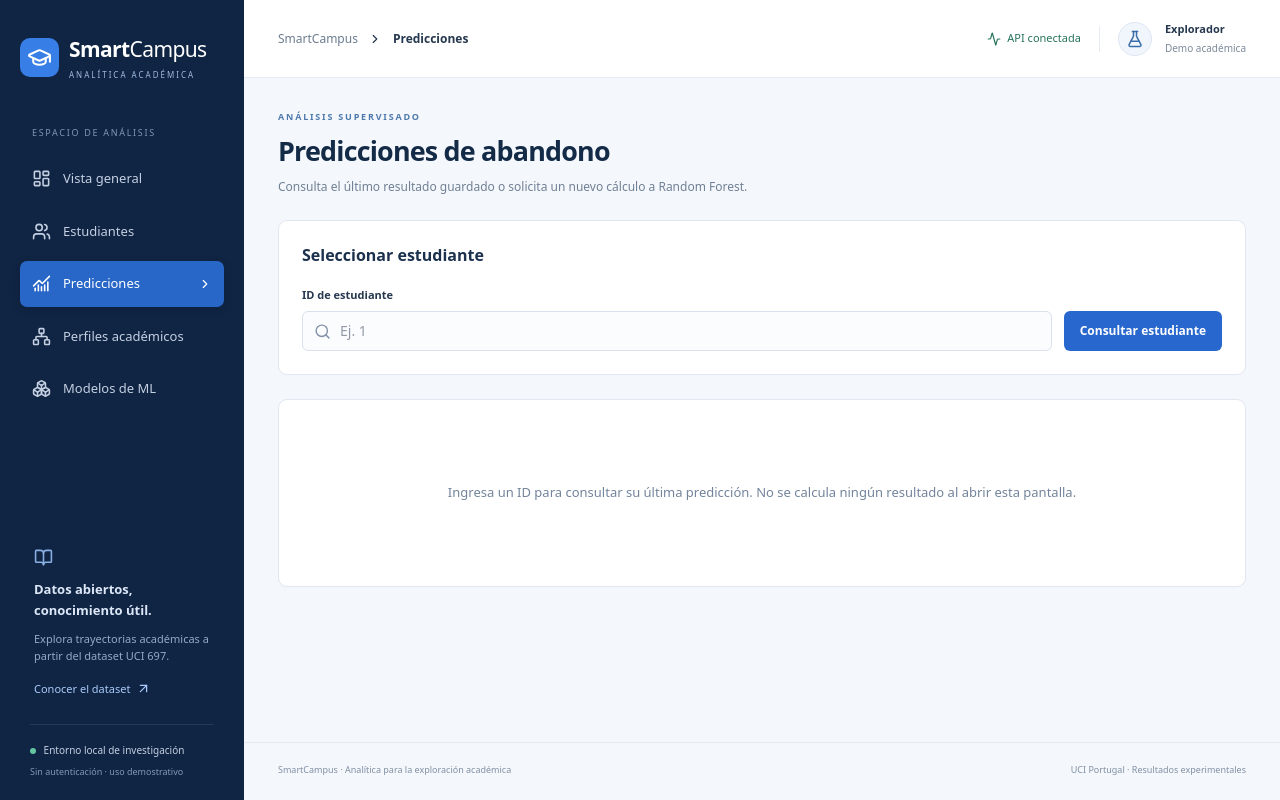
flujos de la interfaz › valida ID y no muestra predicciones inexistentes
Type "-3" into the field labelled "ID de estudiante" at (677, 331), box [302,311,1052,351]
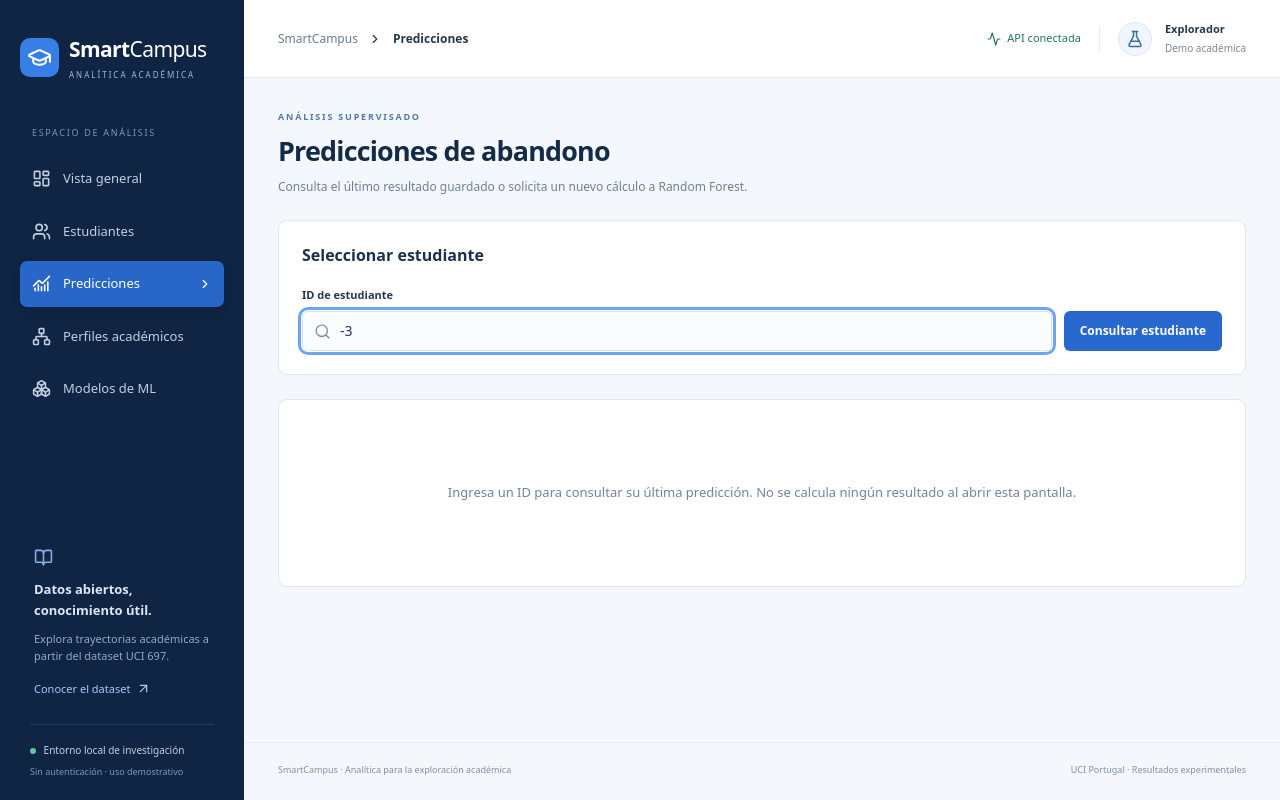
Click the button "Consultar estudiante" at (1143, 331), box [1064,311,1222,351]
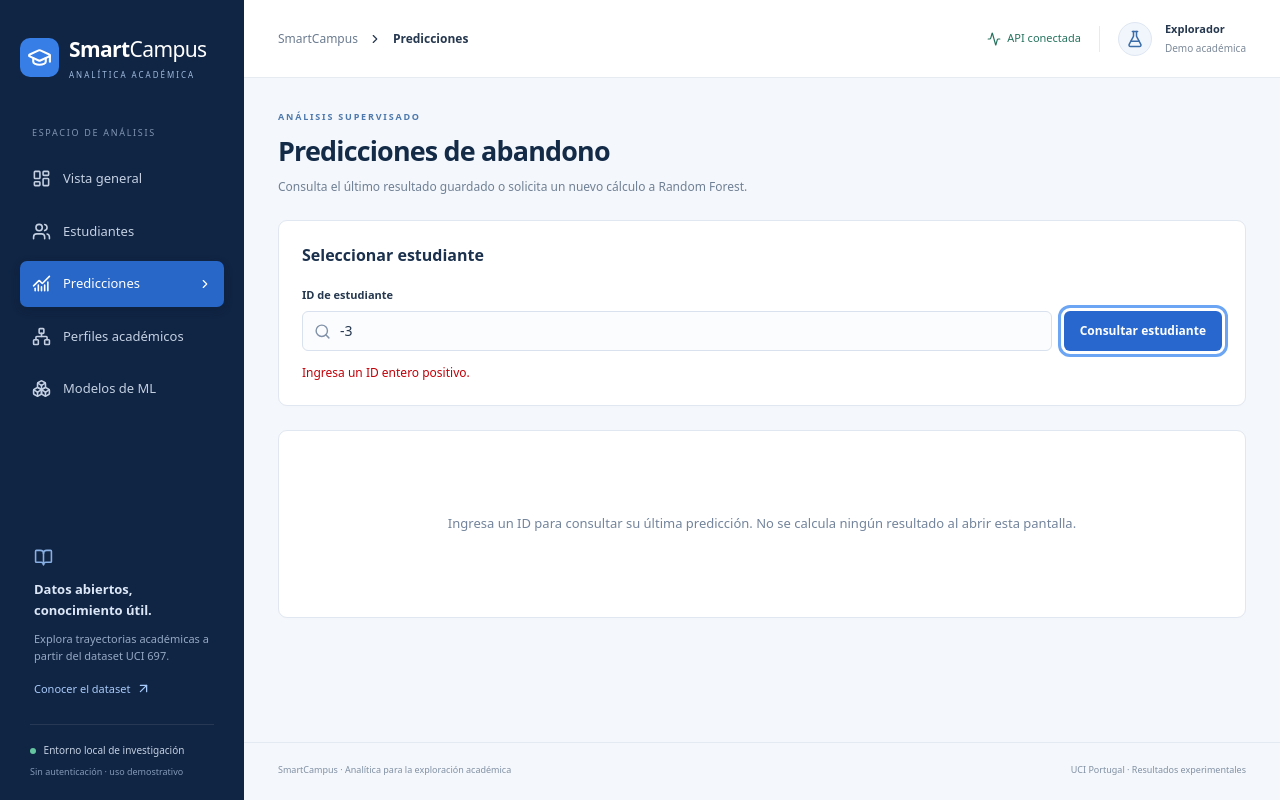
Check: the message shows "entero positivo", box [302,364,470,381]
Replace the text in the field labelled "ID de estudiante" with "1" at (677, 331), box [302,311,1052,351]
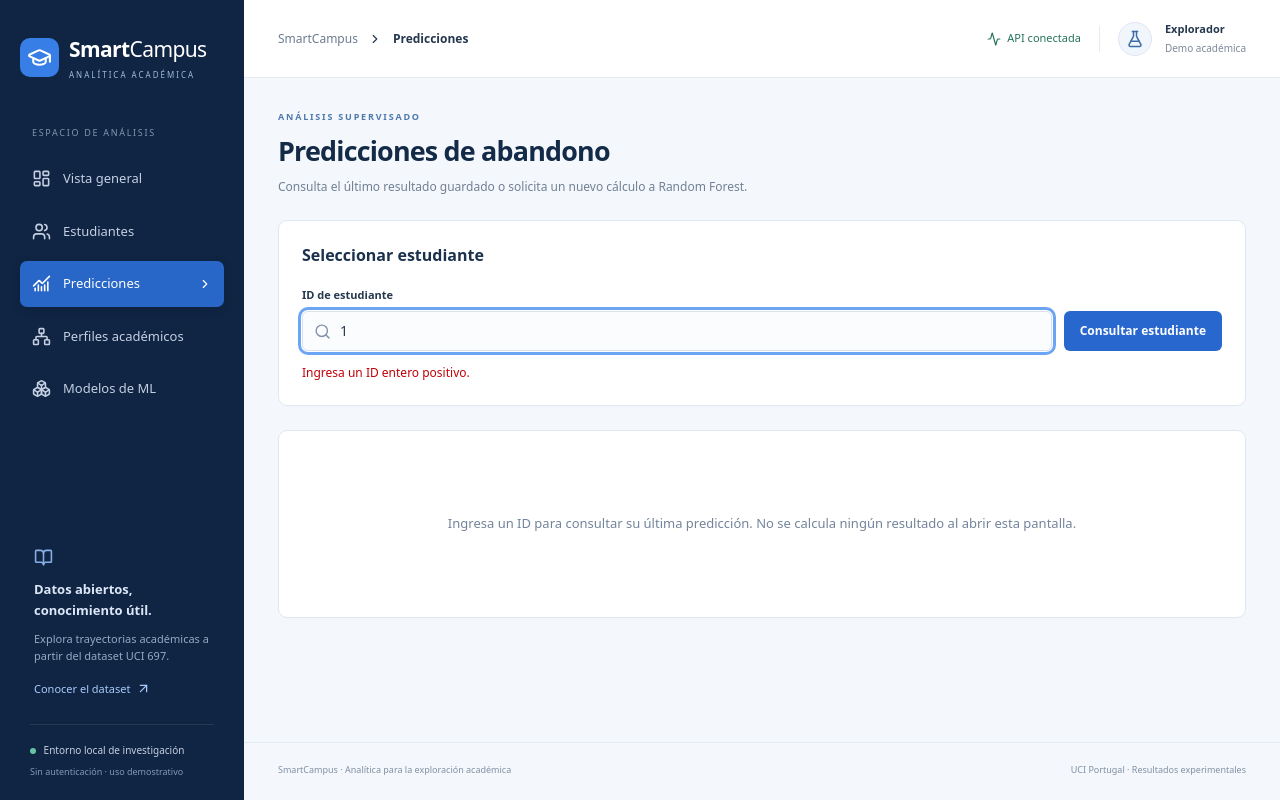
Click the button "Consultar estudiante" at (1143, 331), box [1064,311,1222,351]
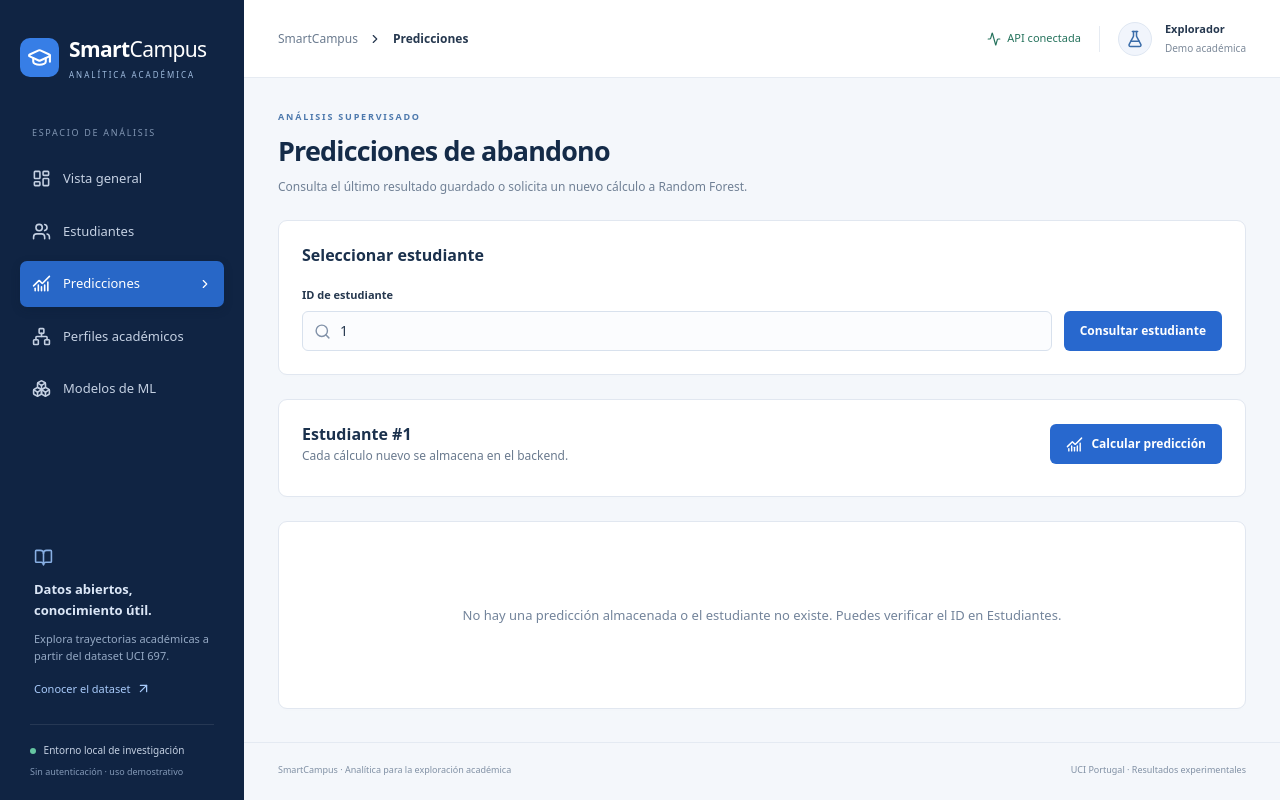
Check: the text "No hay una predicción almacenada o el estudiante no existe" is shown, box [463,606,1061,624]
